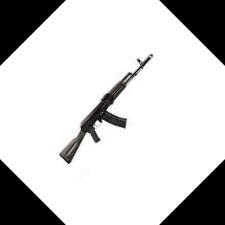larga: (58, 53, 154, 165)
